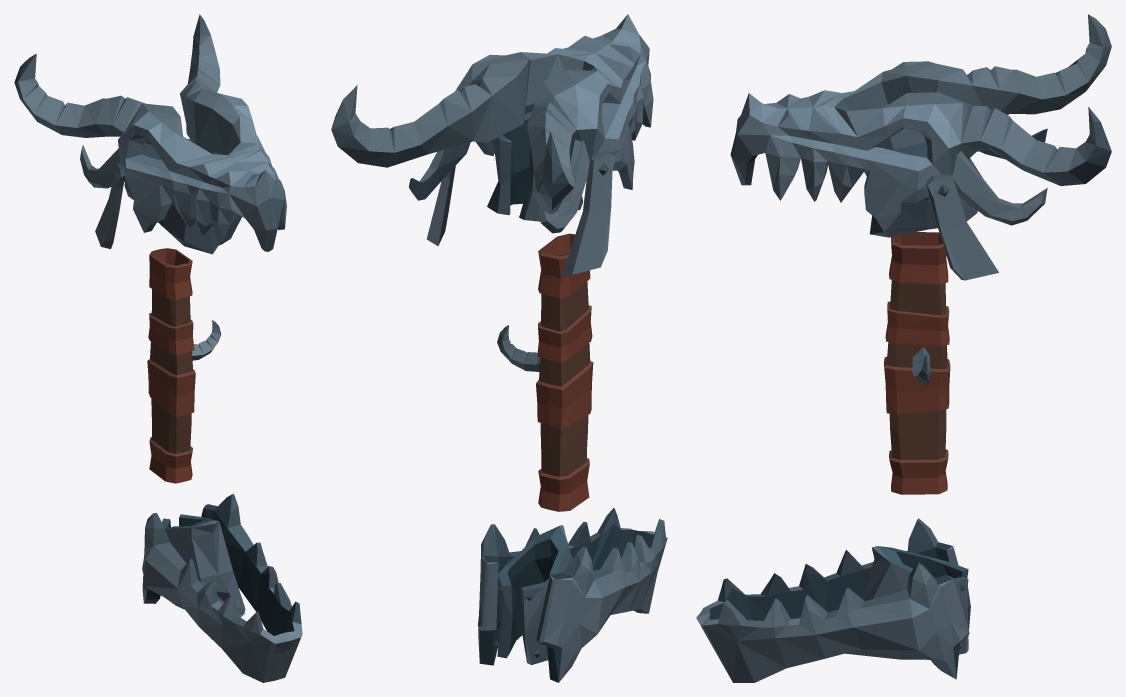
File: largeBowDragonHandle.glb
3 renders of one model, left to right at view 1: azimuth 30°, elevation 25°; view 2: azimuth 150°, elevation 25°; view 3: azimuth 270°, elevation 25°, orthographic. The views are drawn at different scales.
Parts seen in each view (by area): view 1: largeBowDragonHandle; view 2: largeBowDragonHandle; view 3: largeBowDragonHandle.
Boxes of the visible parts, left/top/right/bottom form: largeBowDragonHandle: left=14, top=14, right=302, bottom=682; largeBowDragonHandle: left=331, top=14, right=667, bottom=682; largeBowDragonHandle: left=696, top=14, right=1111, bottom=682.
Bounding box in the file's own units: 0.3024 × 0.8018 × 0.4906.
